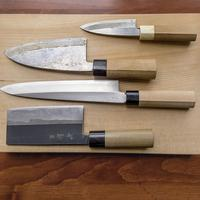knife: (2, 103, 160, 152), (2, 36, 166, 77), (1, 76, 198, 109), (79, 18, 198, 43)
